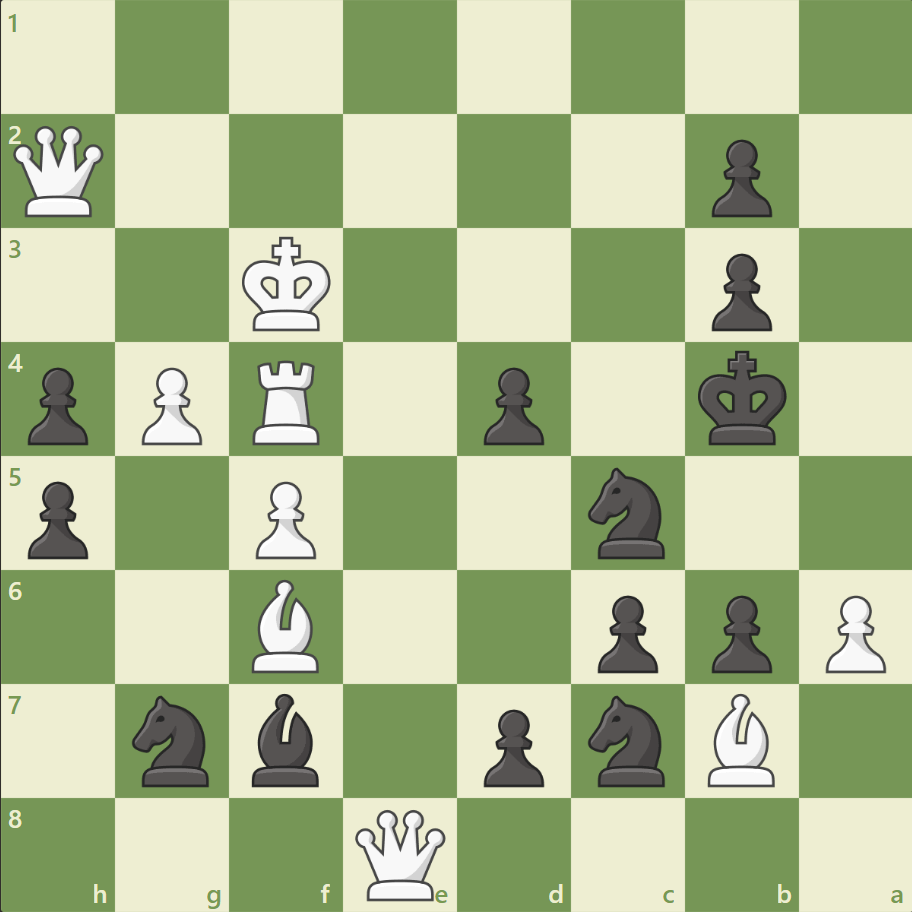B: (698, 687, 782, 790), (244, 574, 328, 676)
K: (238, 231, 338, 339)
P: (247, 473, 322, 564), (133, 359, 208, 450), (815, 586, 889, 677)
Q: (10, 122, 109, 222), (351, 804, 450, 903)
R: (246, 352, 329, 449)
b: (244, 687, 328, 790)
k: (692, 344, 792, 452)
n: (124, 688, 222, 791), (579, 688, 676, 791), (579, 461, 676, 564)
p: (474, 700, 549, 791), (701, 586, 776, 677), (20, 473, 95, 564), (474, 359, 549, 450), (20, 359, 95, 450), (701, 246, 776, 337), (701, 132, 776, 223), (588, 586, 662, 677)
